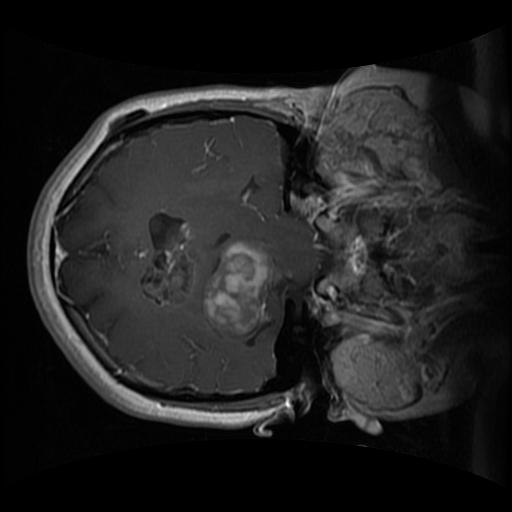glioma: (199, 236, 289, 349)
